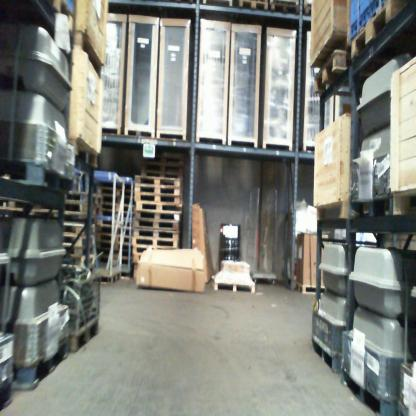pallet: (350, 0, 409, 58), (13, 333, 71, 391), (0, 159, 79, 195), (343, 367, 396, 415), (0, 196, 88, 215), (314, 49, 348, 94), (73, 29, 101, 78), (310, 333, 342, 374), (347, 193, 392, 222), (69, 315, 99, 354), (41, 0, 73, 33), (68, 136, 98, 168), (214, 271, 256, 293), (392, 187, 416, 216), (315, 202, 349, 221), (94, 180, 135, 195), (0, 371, 15, 411), (134, 175, 180, 188), (95, 206, 134, 221), (135, 202, 183, 214), (134, 210, 181, 222), (132, 228, 181, 239), (62, 234, 100, 248), (134, 192, 181, 203), (141, 146, 184, 158), (134, 219, 180, 230), (141, 170, 185, 181), (142, 156, 185, 167), (63, 223, 98, 236), (96, 245, 131, 258), (132, 238, 177, 248), (97, 195, 135, 206), (141, 165, 185, 174), (92, 271, 120, 285), (134, 186, 181, 194), (294, 282, 325, 294), (65, 246, 96, 258), (56, 190, 87, 202), (97, 227, 133, 237), (236, 0, 268, 11), (97, 216, 129, 227), (271, 3, 300, 15), (96, 239, 126, 250), (124, 129, 156, 139), (62, 256, 86, 269), (99, 235, 132, 244), (95, 206, 135, 212), (132, 250, 145, 262), (116, 258, 131, 265), (304, 4, 312, 16)
stillage: (61, 274, 100, 353)
